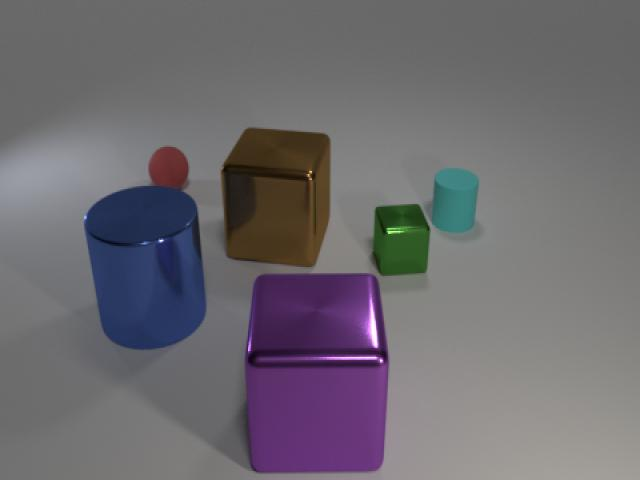cylinder: (77, 180, 216, 353), (428, 163, 486, 239)
round ball: (143, 143, 195, 192)
